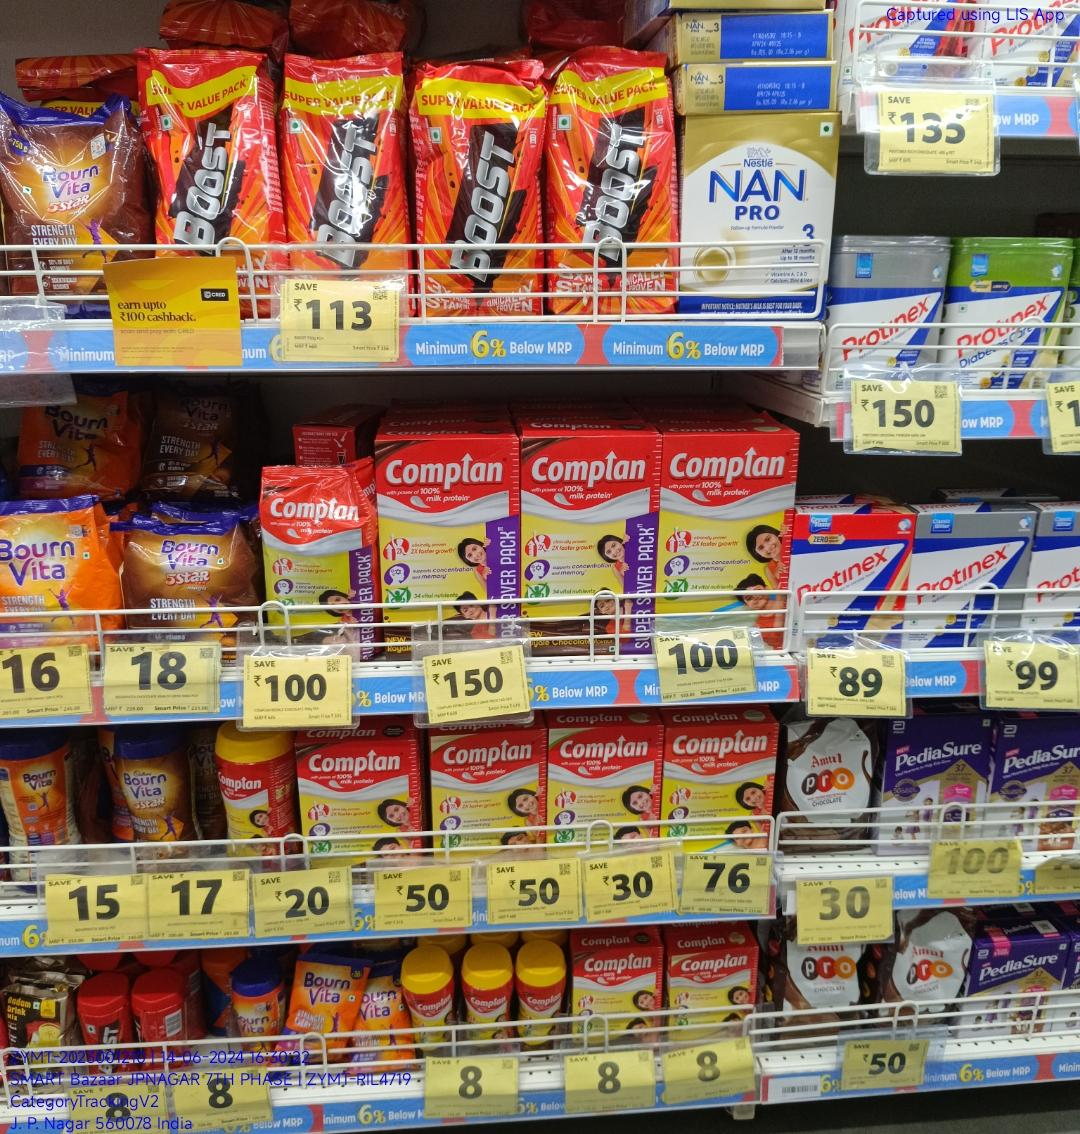BOURN_VITA_500_G_POUCH: (0, 500, 109, 645)
BOURN_VITA_75_G_POUCH: (283, 957, 361, 1063)
BOURN_VITA_FIVE_STAR_MAGIC_500_G_POUCH: (129, 515, 250, 638)
BOURN_VITA_FIVE_STAR_MAGIC_750_G_POUCH: (0, 108, 133, 315)
COMPLAN_CHOCOLATE_1_KG_PACK: (376, 437, 520, 649), (522, 435, 655, 653)
COMPLAN_CHOCOLATE_500_GMS_JAR: (464, 952, 512, 1051), (516, 965, 565, 1049), (408, 978, 453, 1056)
COMPLAN_CHOCOLATE_500_GMS_PACK: (299, 738, 421, 865), (571, 949, 663, 1046)
COMPLAN_CREAMY_CLASSIC_500_G_PACK: (663, 724, 778, 850)
COMPLAN_KESAR_BADAM_500_GMS_PACK: (429, 732, 544, 859), (668, 949, 761, 1040)
COMPLAN_PISTA_BADAM_500_GMS_PACK: (546, 726, 660, 847)
COMPLAN_RC_POUCH_700_GMS_12: (257, 459, 377, 664)
PROTINEX_ORIGINAL_400_G_JAR: (833, 233, 945, 380)
